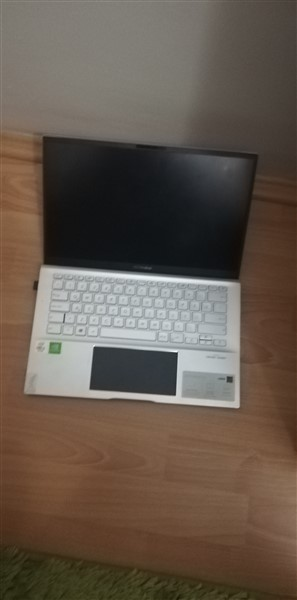laptop: (17, 126, 250, 419)
